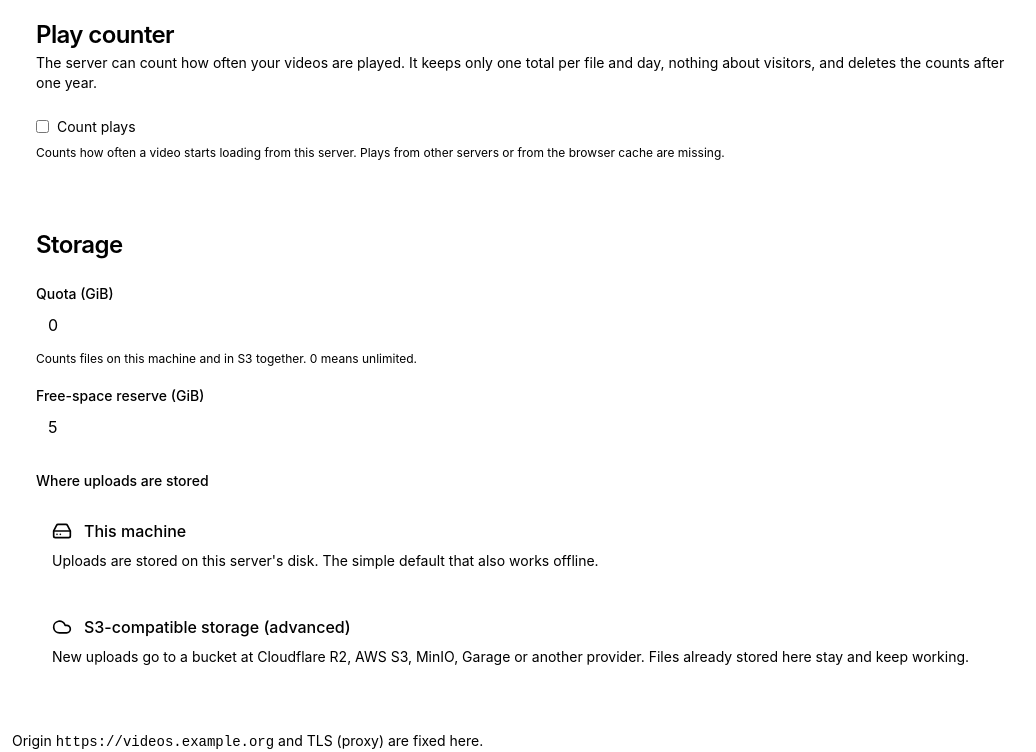
Test: S3 storage › checks the form before testing the connection
(page scrolled)
Click the button "S3-compatible storage".
click(217, 627)  # box x1=36 y1=599 x2=1012 y2=683
(page scrolled)
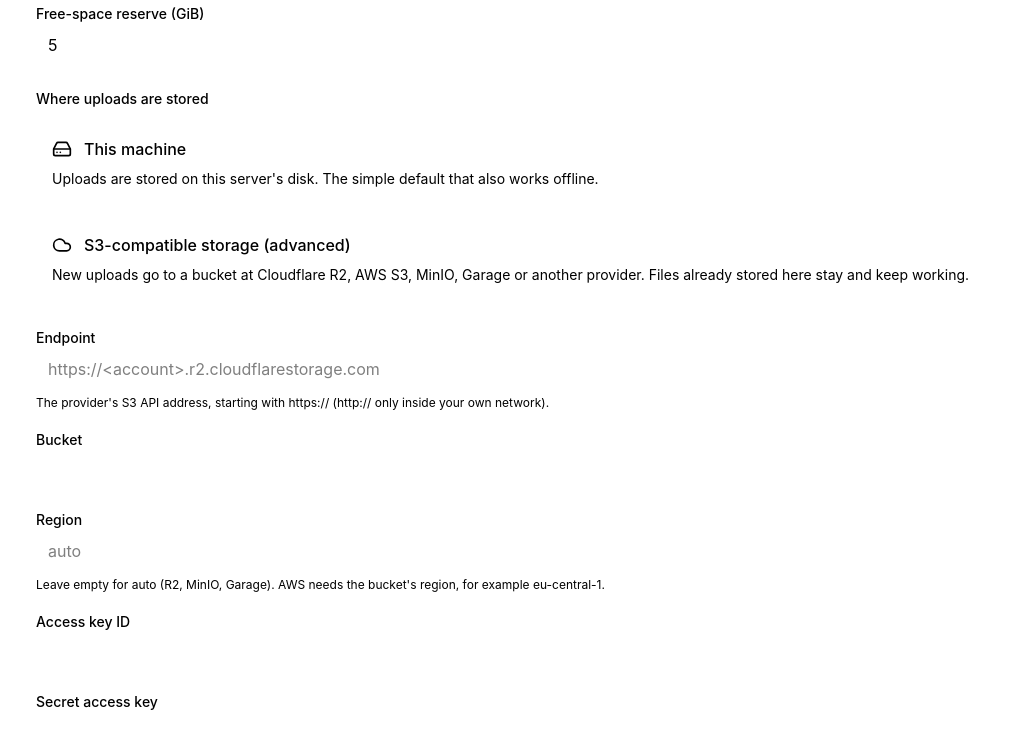
Type "minio.lan:9000" into the field labelled "Endpoint".
click(524, 369); type("minio.lan:9000")  # box x1=36 y1=349 x2=1012 y2=389
(page scrolled)
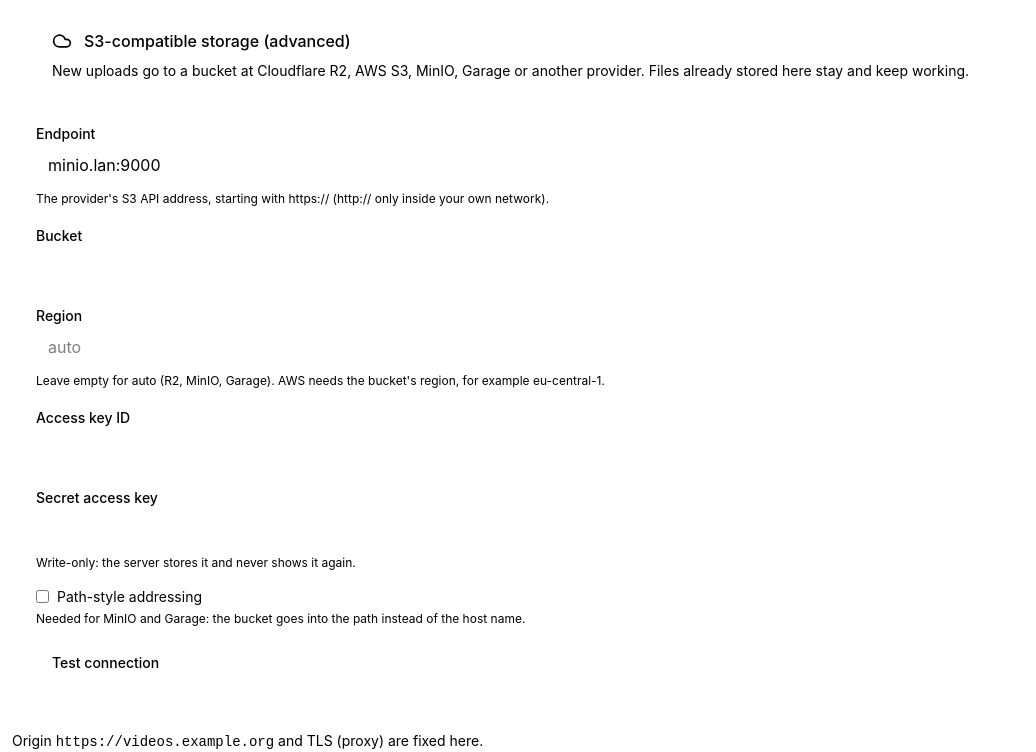
Click the button "Test connection".
click(106, 663)  # box x1=36 y1=643 x2=175 y2=683
(page scrolled)
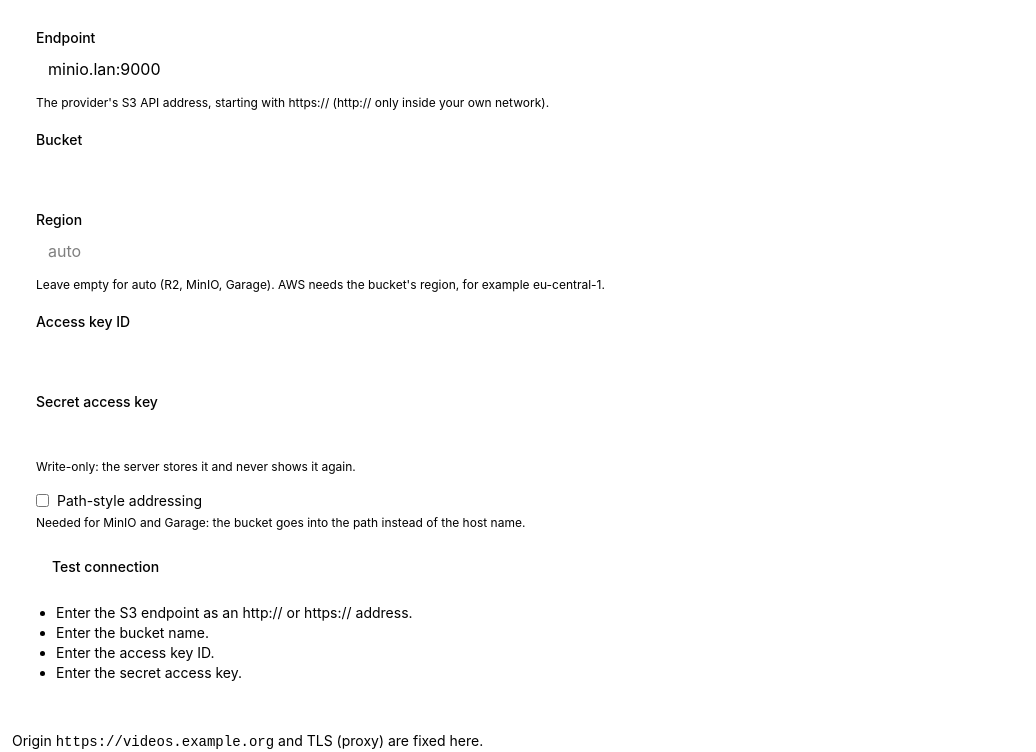
Expected: the list item "Enter the S3 endpoint as an http:// or https:// address." is shown, x1=56 y1=604 x2=413 y2=621
Expected: the list item "Enter the bucket name." is shown, x1=56 y1=624 x2=209 y2=641
Expected: the list item "Enter the access key ID." is shown, x1=56 y1=644 x2=214 y2=661
